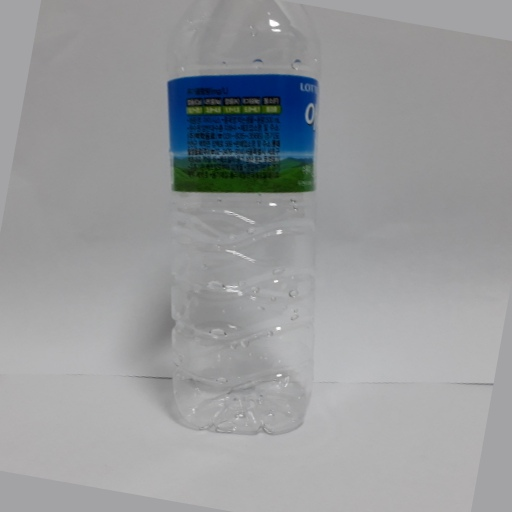Plastic_0: (155, 1, 328, 446)
